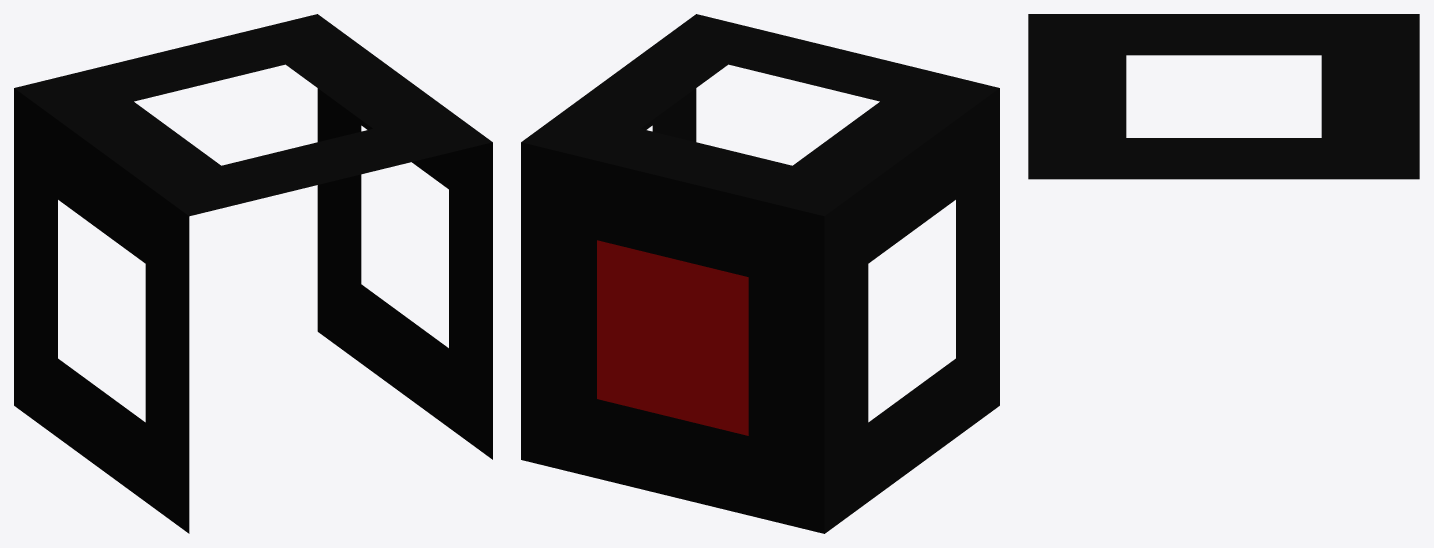
File: fluent-button-model.glb
The picture shows the model from 3 angles, left to right: view 1: azimuth 30°, elevation 25°; view 2: azimuth 150°, elevation 25°; view 3: azimuth 270°, elevation 25°; orthographic projection. The views are drawn at different scales.
Parts seen in each view (by area): view 1: boundingbox; view 2: boundingbox; view 3: boundingbox.
Boxes of the visible parts, x1,y1,x2,y2 form: boundingbox: [14, 14, 492, 533]; boundingbox: [521, 14, 999, 533]; boundingbox: [1028, 14, 1419, 179].
Bounding box in the file's own units: 1 × 1 × 1.
